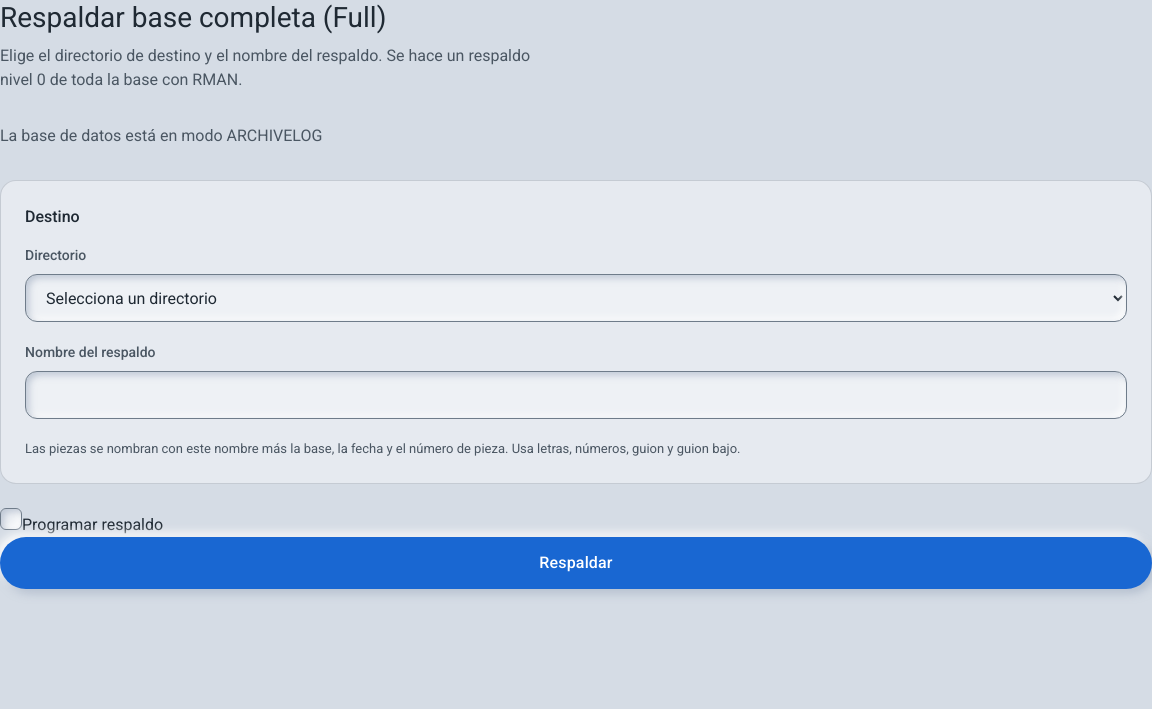
it: pantalla de respaldo Full › si RMAN falla (500) muestra el mensaje, la explicación y el log
The image size is (1152, 709).
Select "RESPALDO (/opt/oracle/Respaldos)" in the dropdown labelled "Directorio" at {"x": 576, "y": 298}, box [25,274,1127,322]
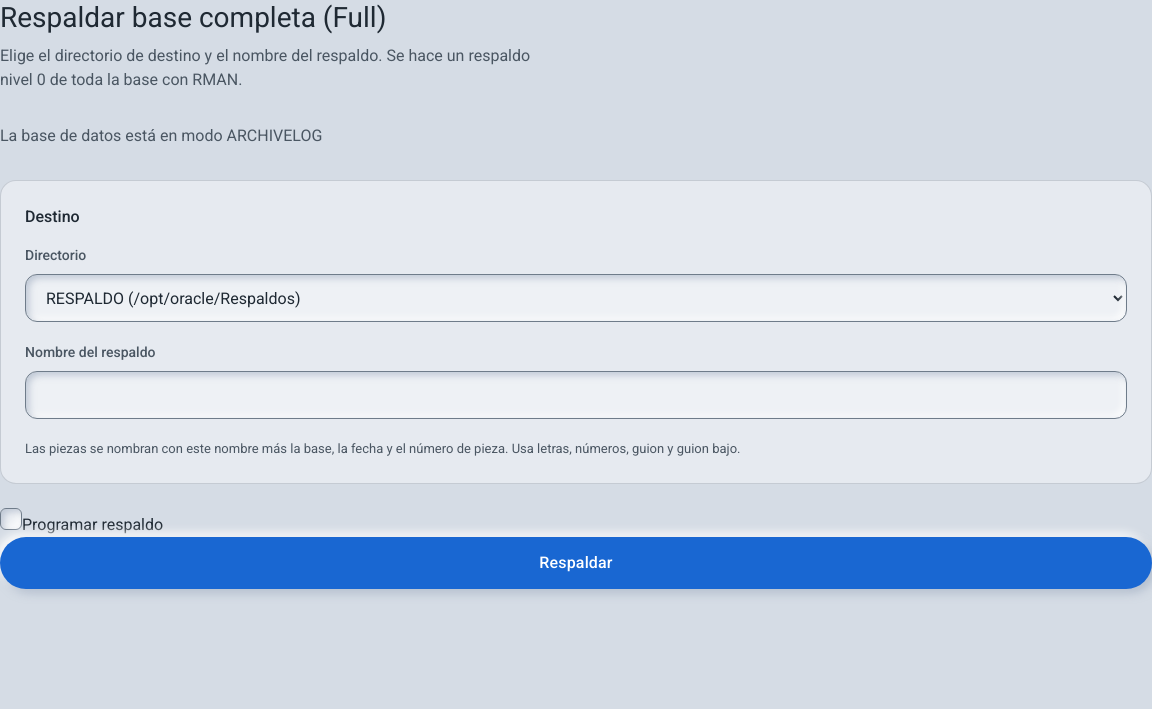
Type "semanal" into the field labelled "Nombre del respaldo" at {"x": 576, "y": 395}, box [25,371,1127,419]
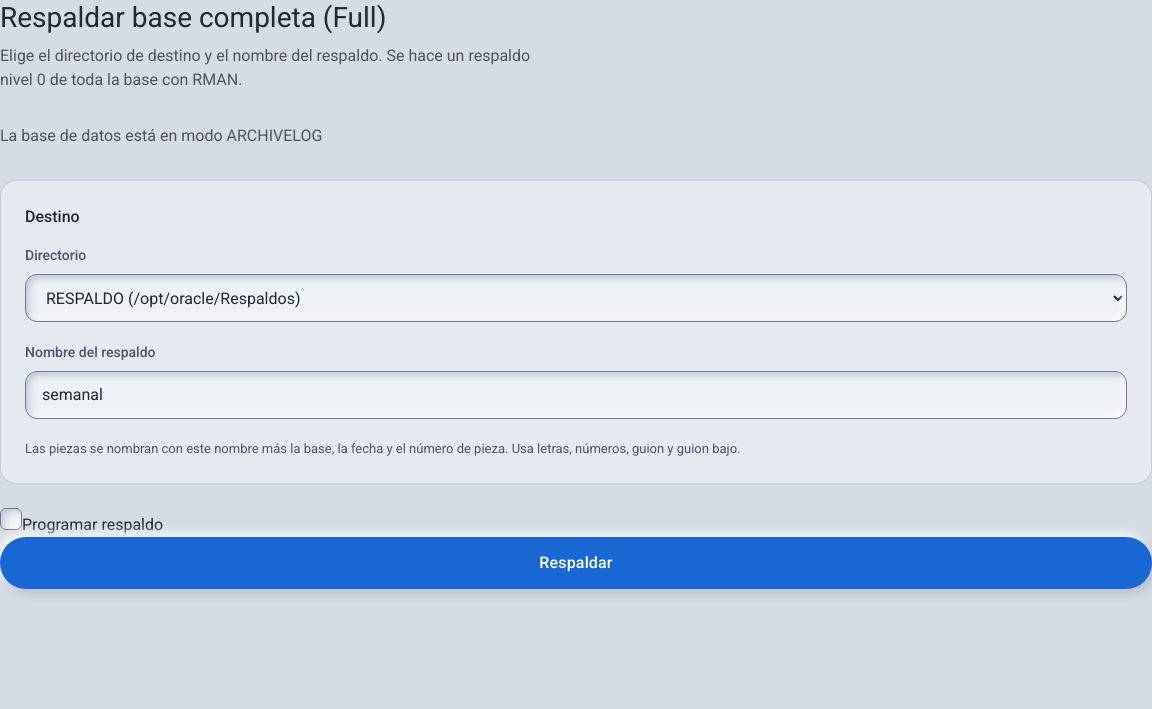
Click the button "Respaldar" at {"x": 576, "y": 562}, box [0,536,1151,588]
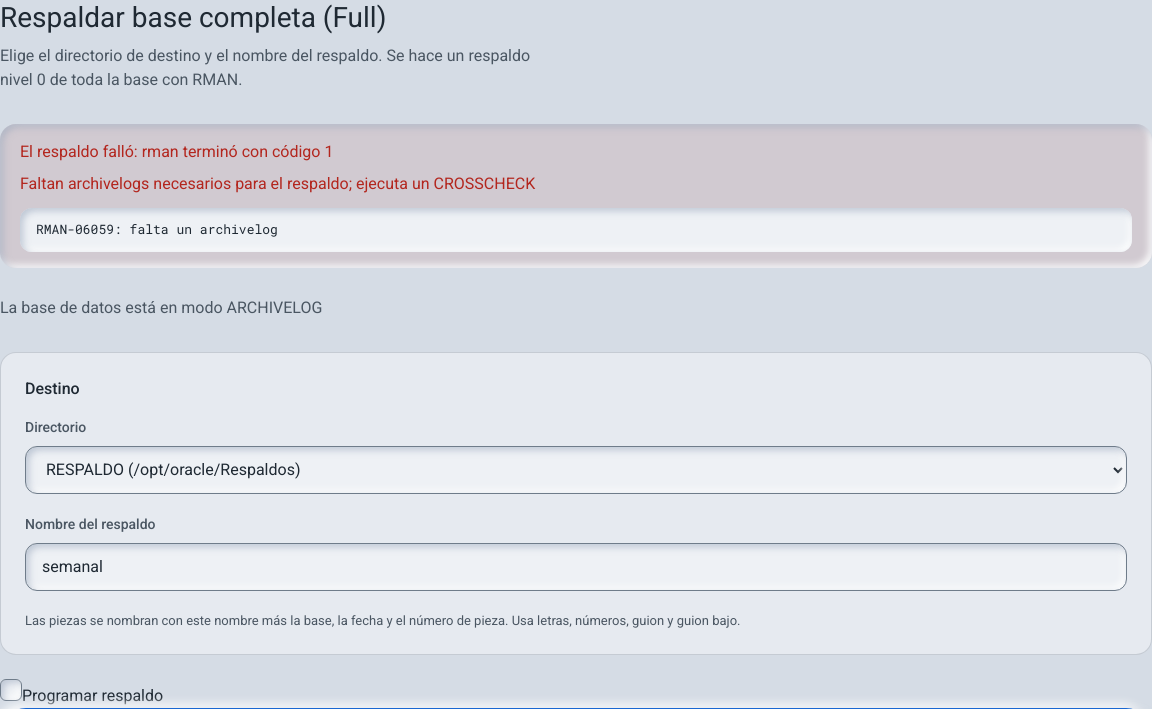
Result: the message shows "rman terminó con código 1" at [20,142,333,161]
Result: the message shows "Faltan archivelogs necesarios" at [20,174,535,193]
Result: the text "RMAN-06059: falta un archivelog" is shown at [20,208,1132,252]
